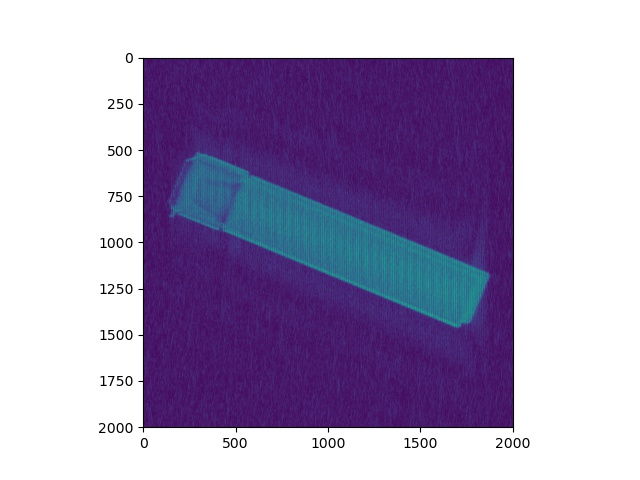Large1: (171, 147, 487, 350)
